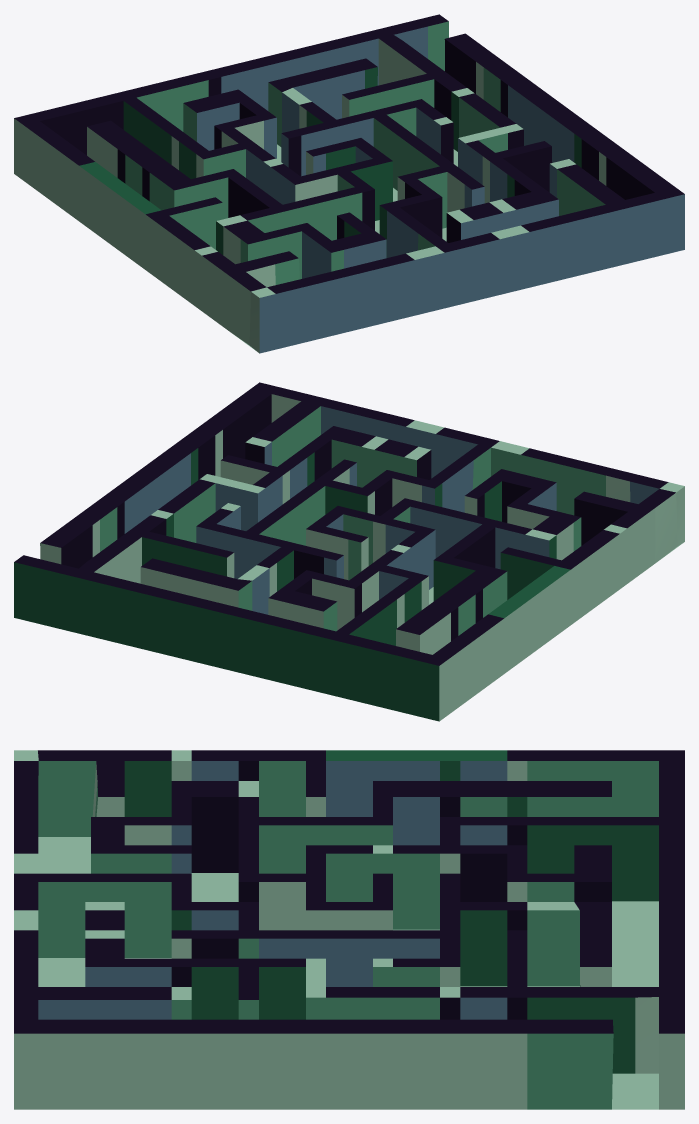
The model's file is thinMaze.glb.
The picture shows the model from 3 angles, top to bottom: view 1: azimuth 30°, elevation 25°; view 2: azimuth 150°, elevation 25°; view 3: azimuth 270°, elevation 25°; orthographic projection. The views are drawn at different scales.
Visible parts, largest first — view 1: Maze; view 2: Maze; view 3: Maze.
Boxes of the visible parts, box(x1,y1,x2,y2) form: Maze: box(14, 14, 684, 353); Maze: box(14, 382, 684, 721); Maze: box(14, 750, 684, 1109).
Size of the model in its own units: 90.52 by 11.28 by 90.24.
